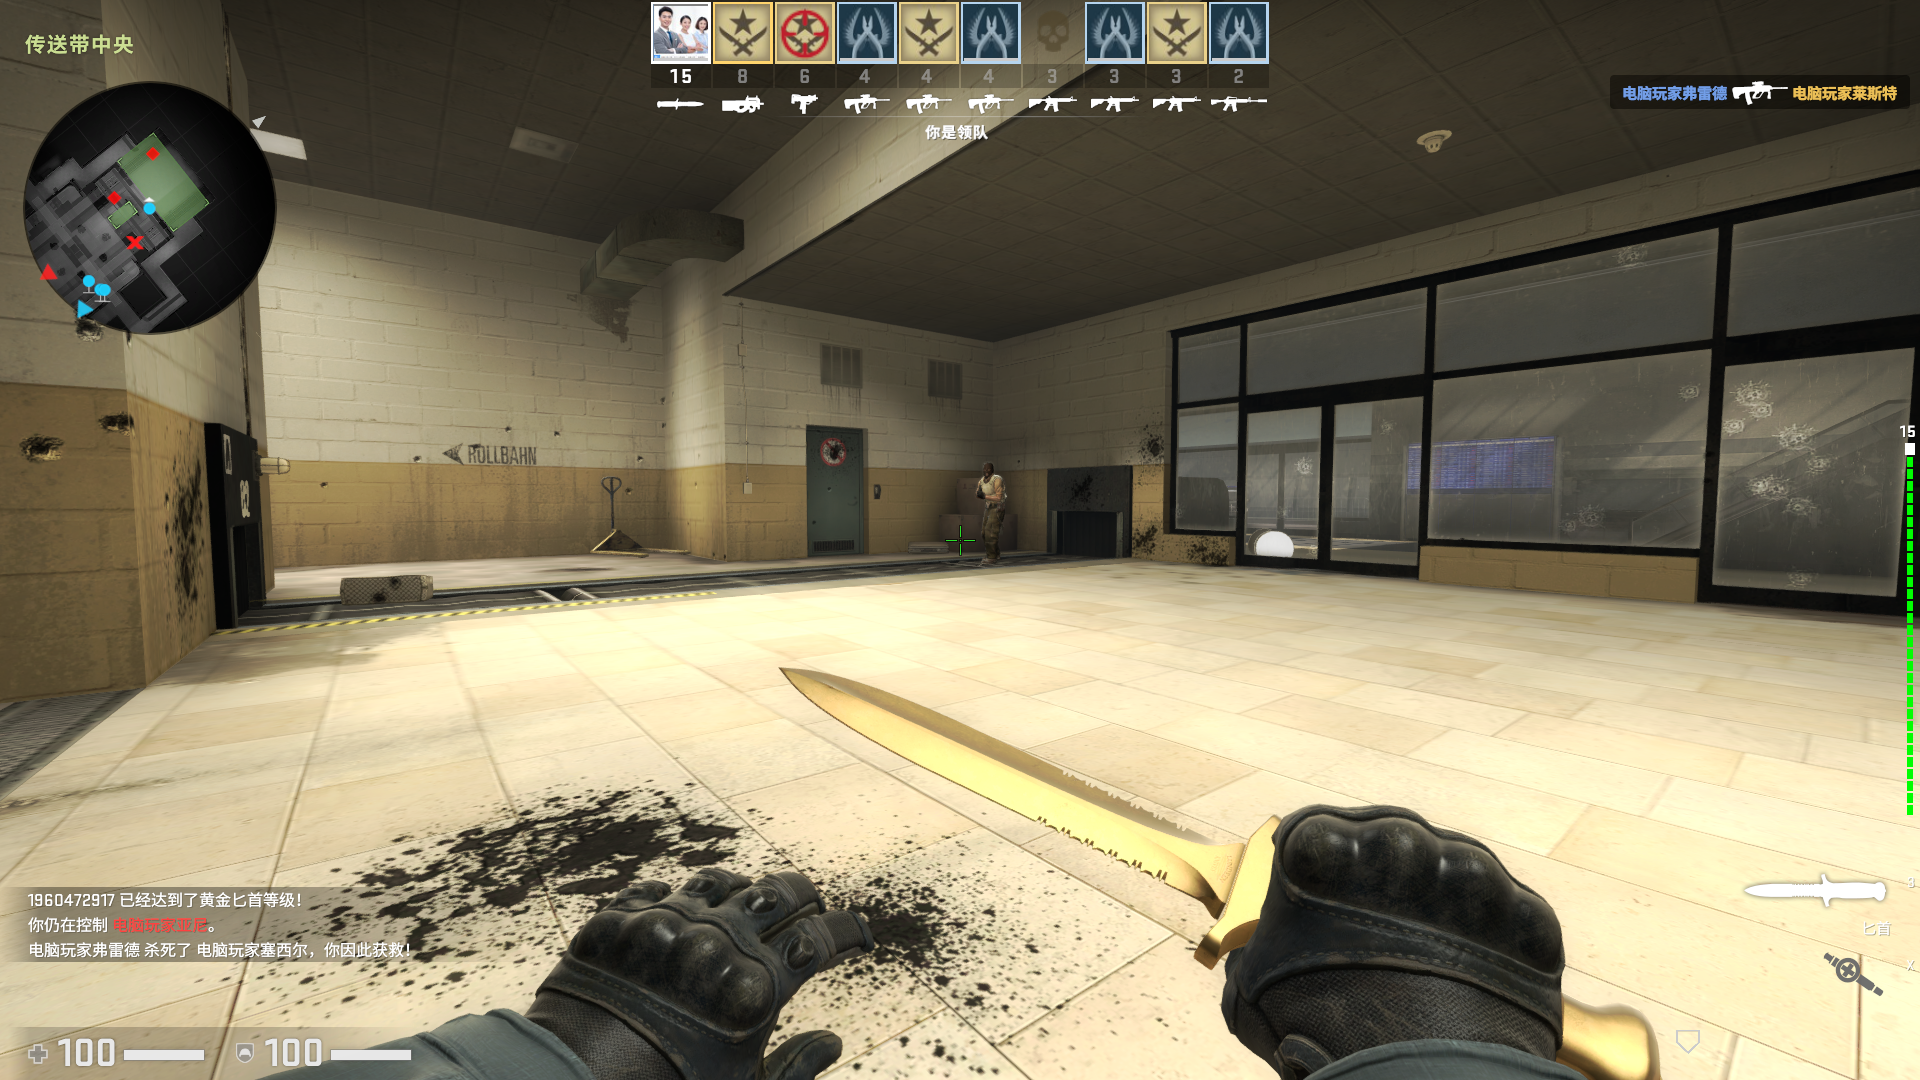person: (977, 460, 1020, 568)
